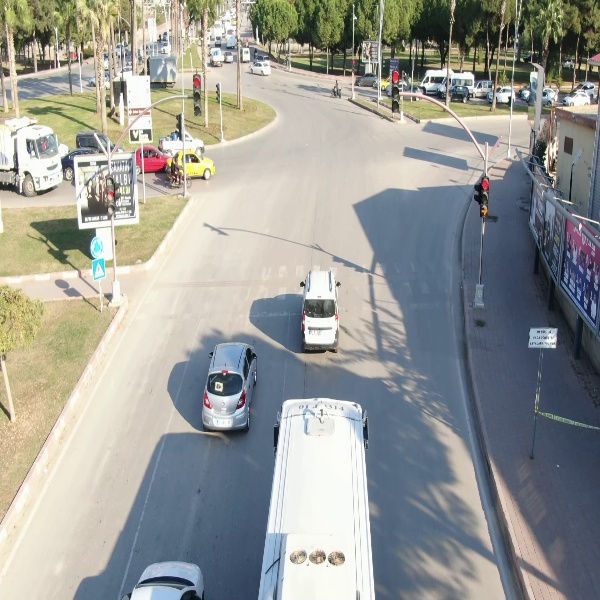car: (198, 340, 260, 436), (298, 269, 341, 353), (560, 89, 593, 109), (488, 84, 517, 105), (443, 84, 470, 104), (248, 60, 274, 75), (222, 50, 236, 65), (239, 46, 252, 62)
